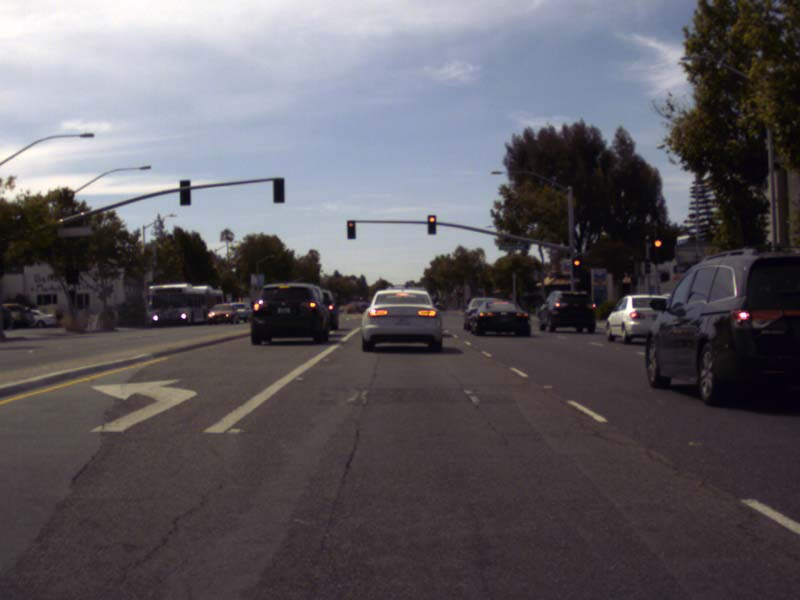Red: (650, 235, 663, 262), (427, 213, 436, 233), (346, 219, 355, 238), (572, 256, 581, 274)
